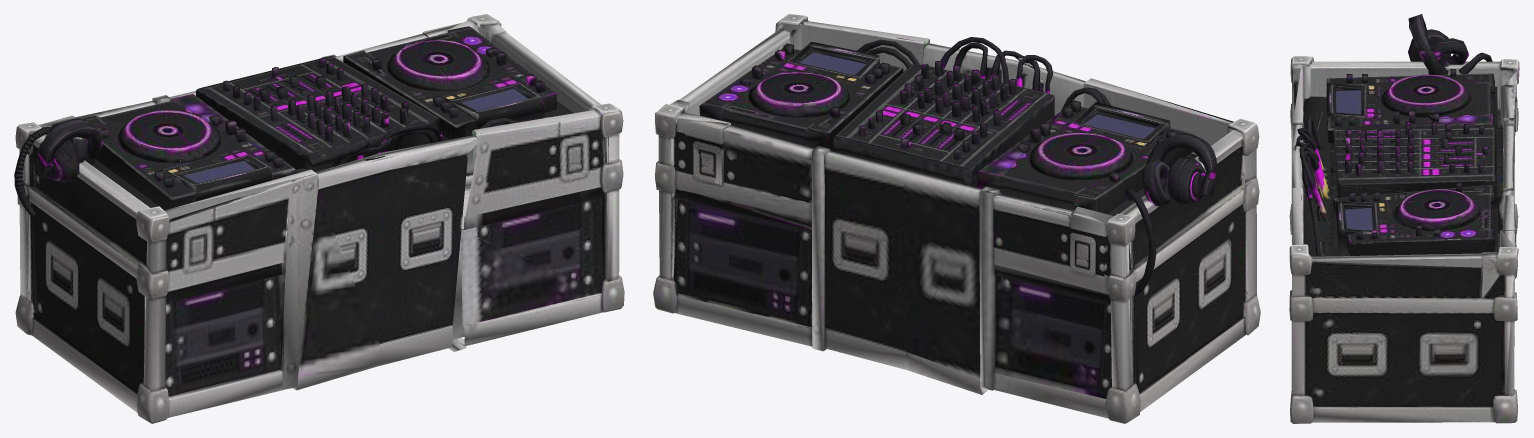
The model's file is dj_opt.glb.
The picture shows the model from 3 angles, left to right: view 1: azimuth 30°, elevation 25°; view 2: azimuth 150°, elevation 25°; view 3: azimuth 270°, elevation 25°; orthographic projection. The views are drawn at different scales.
Bounding box in the file's own units: 0.9541 × 0.4589 × 0.4419.
1 material, 1 textured.
